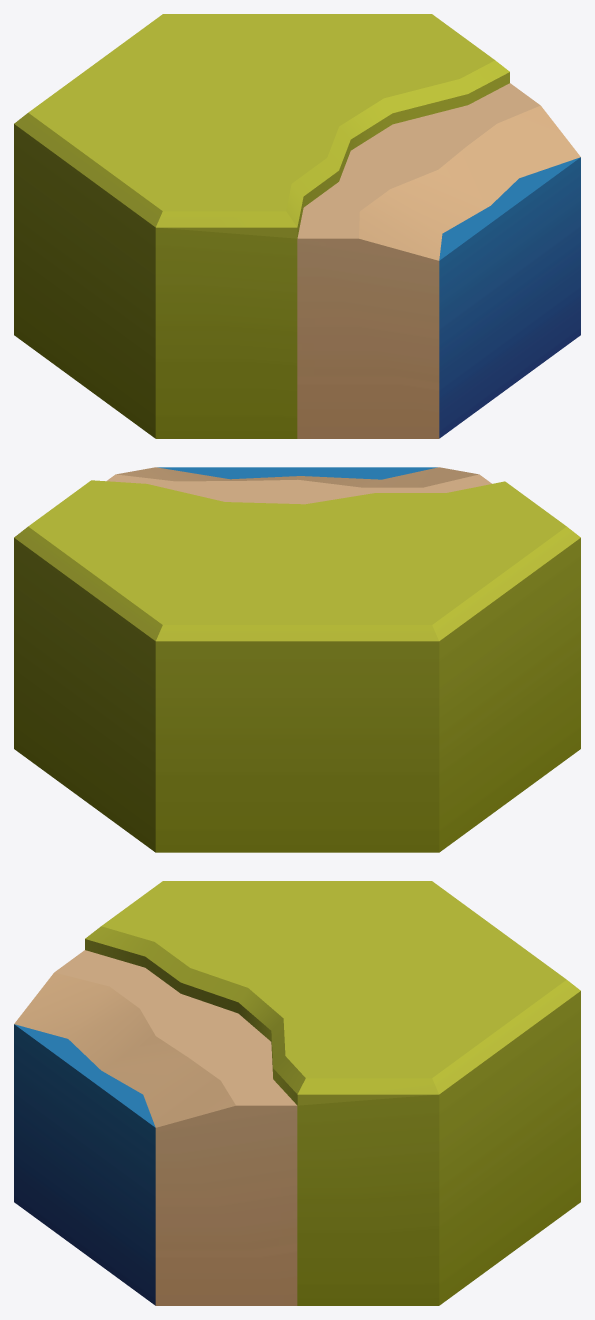
File: kaykit-medieval-hexagon-pack-hex-coast-a.glb
The picture shows the model from 3 angles, top to bottom: view 1: azimuth 30°, elevation 25°; view 2: azimuth 150°, elevation 25°; view 3: azimuth 270°, elevation 25°; orthographic projection.
Visible parts, largest first — view 1: hex_coast_A; view 2: hex_coast_A; view 3: hex_coast_A.
Part boxes in pixels (bbox=[...]): hex_coast_A: bbox=[14, 14, 580, 438]; hex_coast_A: bbox=[14, 467, 580, 852]; hex_coast_A: bbox=[14, 881, 580, 1305].
Bounding box in the file's own units: 2 × 1 × 2.31.
Materials: 1 (1 with a texture image).
